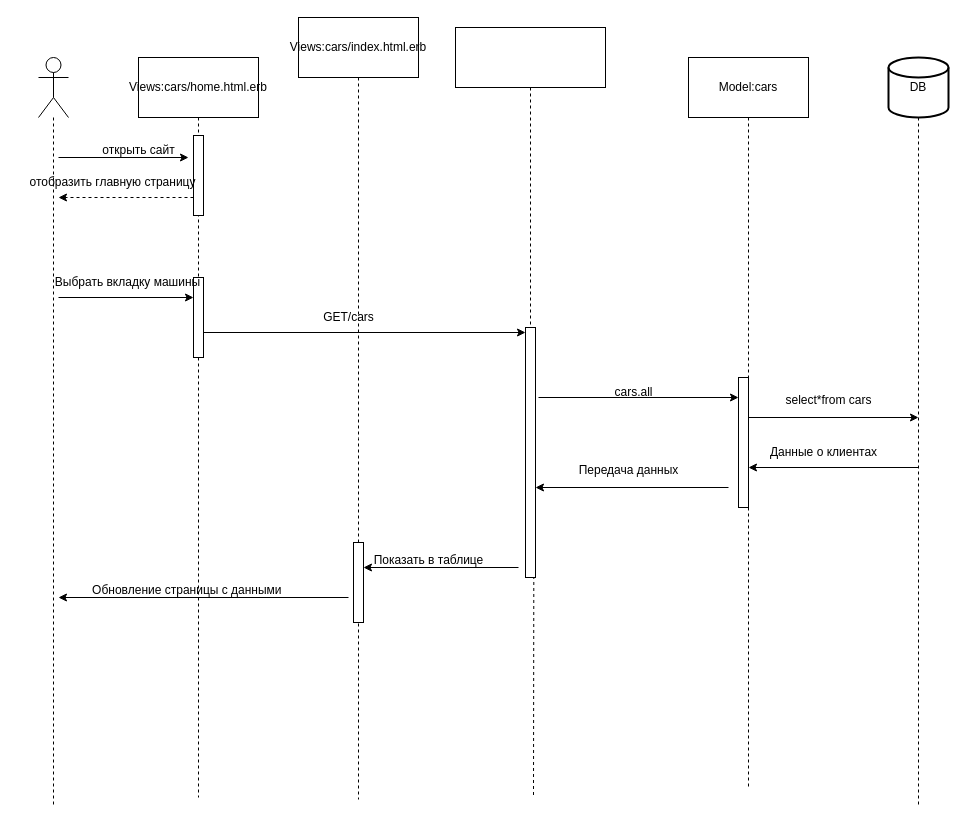
Some shapes in this 966 by 826 pixel diagram are drawn without their labels. Each missing label, with the centre of its shape:
"Controller:cars_controller.rb" goes at (x=530, y=57).
"USER" goes at (x=53, y=87).
